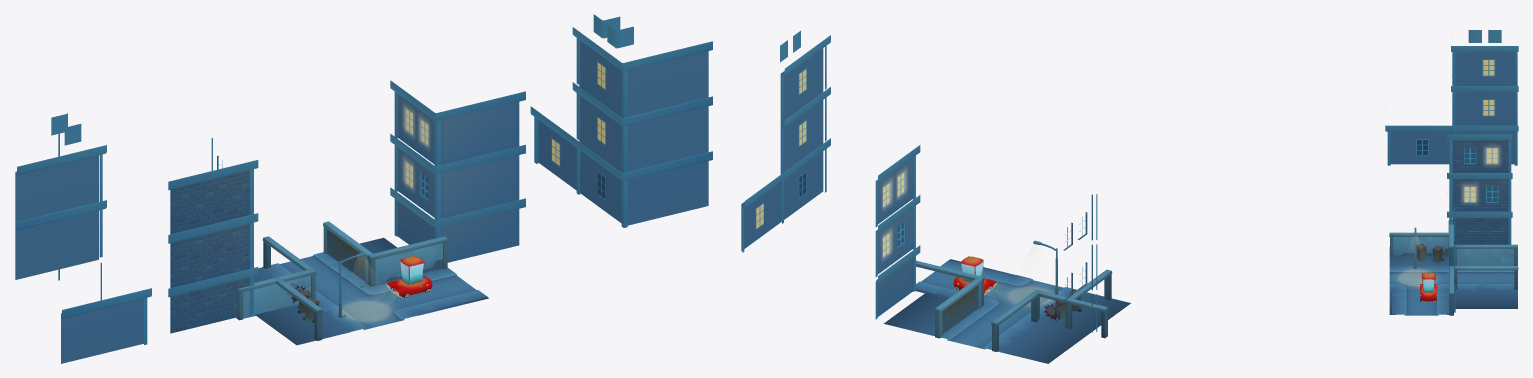
Rendered from UrbanRoadTSection.prefab.glb.
3 renders of one model, left to right at view 1: azimuth 30°, elevation 25°; view 2: azimuth 150°, elevation 25°; view 3: azimuth 270°, elevation 25°, orthographic. The views are drawn at different scales.
Parts seen in each view (by area): view 1: FarBackBuilding02, BackgroundBuilding01, BackgroundBuilding02, UrbanRoadTSection, Road02, PlasteredWall02 (1), PlasteredWall01 (1), BrickWall, Car2Body, LightPool02, PlasteredWall02, PlasteredWall01 (2); view 2: FarBackBuilding02, BackgroundBuilding01, Road02, UrbanRoadTSection, BrickWall, BackgroundBuilding02, PlasteredWall01 (2), PlasteredWall02, Car2Body, PlasteredWall01 (1), PlasteredWall02 (1); view 3: FarBackBuilding02, BackgroundBuilding02, UrbanRoadTSection, Road02, PlasteredWall01 (2), PlasteredWall02, Car2Body, BrickWall, LightPool02, LightGlowPlane (1), LightGlowPlane, PlasteredWall02 (1) (+5 smaller).
Boxes of the visible parts, box(x1,y1,x2,y2) form: FarBackBuilding02: box(15, 14, 712, 363); BackgroundBuilding01: box(390, 80, 525, 262); BackgroundBuilding02: box(168, 138, 258, 333); UrbanRoadTSection: box(255, 268, 488, 345); Road02: box(254, 237, 396, 296); PlasteredWall02 (1): box(368, 236, 448, 286); PlasteredWall01 (1): box(236, 268, 316, 320); BrickWall: box(323, 221, 372, 284); Car2Body: box(386, 256, 432, 298); LightPool02: box(342, 300, 392, 322); PlasteredWall02: box(273, 277, 322, 340); PlasteredWall01 (2): box(262, 236, 312, 270); FarBackBuilding02: box(741, 30, 830, 252); BackgroundBuilding01: box(875, 145, 920, 319); Road02: box(883, 293, 1089, 363); UrbanRoadTSection: box(916, 259, 1130, 333); BrickWall: box(934, 278, 981, 338); BackgroundBuilding02: box(1063, 194, 1097, 332); PlasteredWall01 (2): box(991, 292, 1038, 351); PlasteredWall02: box(1064, 269, 1112, 328); Car2Body: box(953, 256, 996, 295); PlasteredWall01 (1): box(1034, 289, 1108, 338); PlasteredWall02 (1): box(916, 260, 984, 306); FarBackBuilding02: box(1385, 30, 1518, 165); BackgroundBuilding02: box(1447, 134, 1512, 244); UrbanRoadTSection: box(1389, 247, 1453, 315); Road02: box(1455, 249, 1517, 308); PlasteredWall01 (2): box(1453, 244, 1517, 266); PlasteredWall02: box(1389, 232, 1453, 255); Car2Body: box(1420, 272, 1437, 302); BrickWall: box(1454, 266, 1518, 289); LightPool02: box(1397, 269, 1428, 286); LightGlowPlane (1): box(1484, 146, 1500, 165); LightGlowPlane: box(1462, 184, 1478, 203); PlasteredWall02 (1): box(1449, 266, 1454, 315).
Size of the model in its own units: 76.34 by 27.66 by 18.69.
9 materials, 8 textured.
